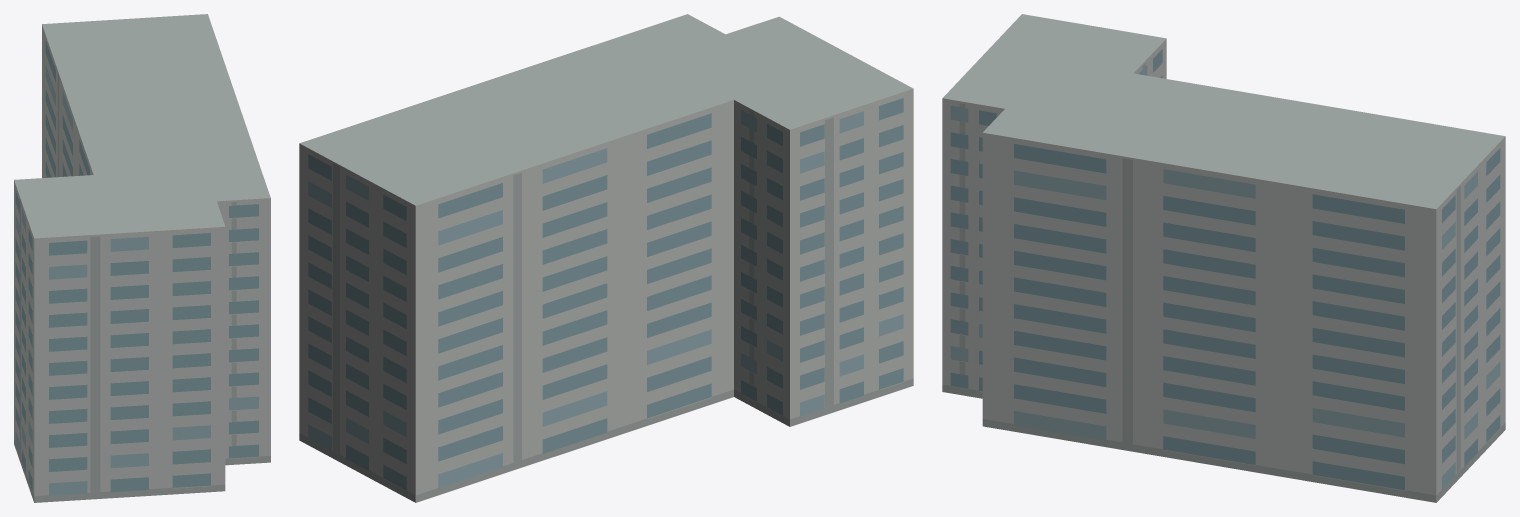
The model's file is residential-c2437422-58ff-4a97-94f4-52b72f9899c4.glb.
The picture shows the model from 3 angles, left to right: view 1: azimuth 30°, elevation 25°; view 2: azimuth 150°, elevation 25°; view 3: azimuth 270°, elevation 25°; orthographic projection. The views are drawn at different scales.
Parts seen in each view (by area): view 1: residential-c2437422-58ff-4a97-94f4-52b72f9899c4.tmp; view 2: residential-c2437422-58ff-4a97-94f4-52b72f9899c4.tmp; view 3: residential-c2437422-58ff-4a97-94f4-52b72f9899c4.tmp.
Boxes of the visible parts, left/top/right/bottom form: residential-c2437422-58ff-4a97-94f4-52b72f9899c4.tmp: left=14, top=14, right=270, bottom=502; residential-c2437422-58ff-4a97-94f4-52b72f9899c4.tmp: left=299, top=14, right=913, bottom=502; residential-c2437422-58ff-4a97-94f4-52b72f9899c4.tmp: left=942, top=14, right=1505, bottom=502.
Bounding box in the file's own units: 49.91 × 35 × 60.82.
